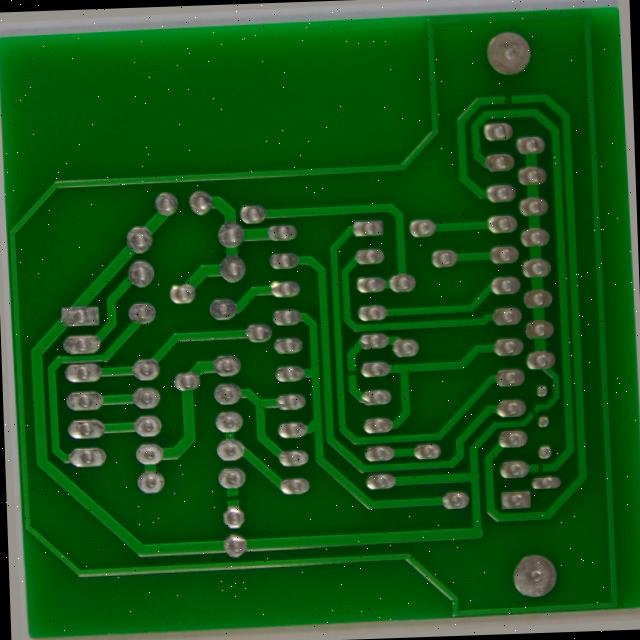open_circuit: (505, 89, 526, 108), (215, 492, 238, 507), (528, 410, 545, 426), (535, 465, 550, 481), (344, 366, 359, 381)
